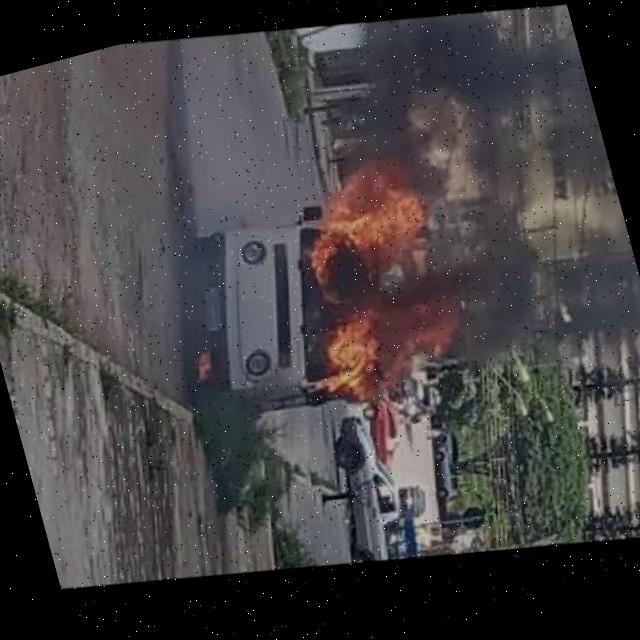fire: (280, 138, 468, 338), (296, 277, 484, 439), (192, 355, 217, 389)
